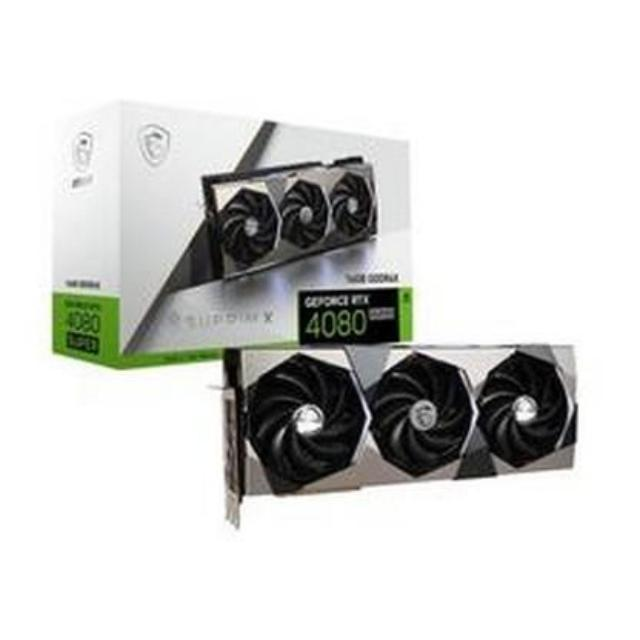GPU: (220, 341, 585, 501)
